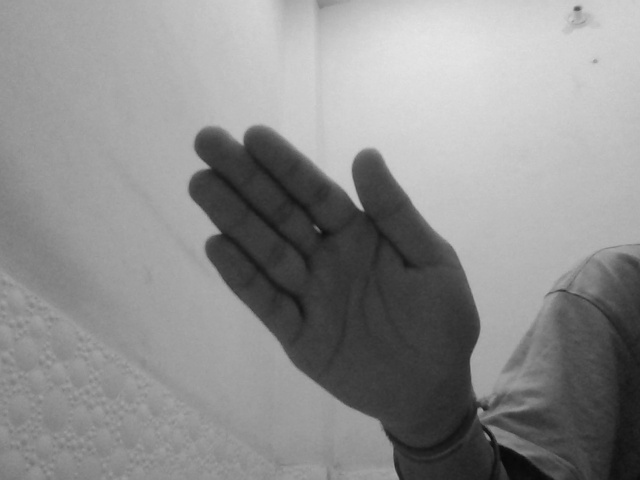Hello: (178, 119, 484, 412)
